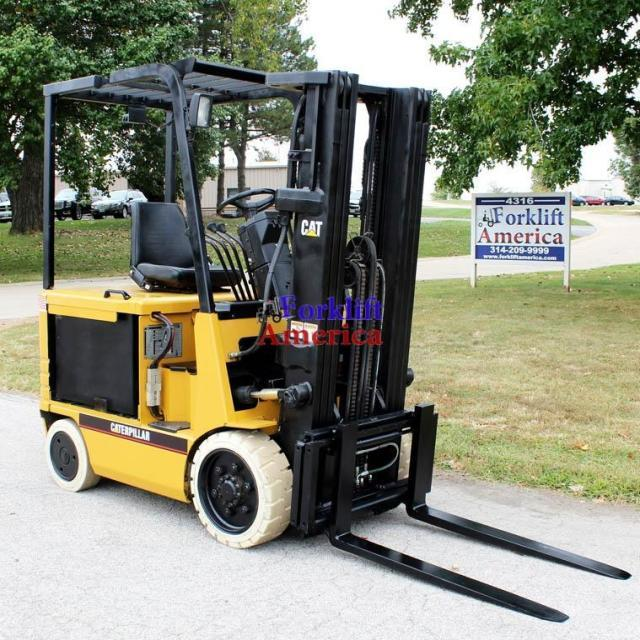forklift: (19, 43, 457, 576)
